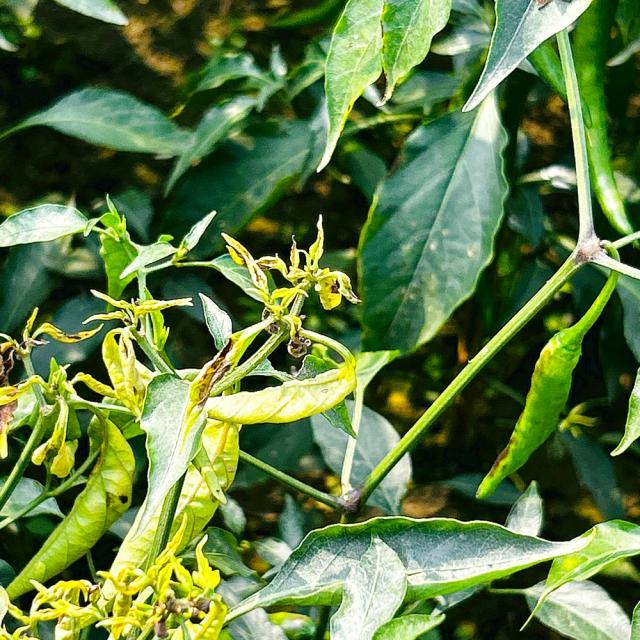Chilli_Leaf_Curl: (1, 1, 638, 638), (1, 194, 363, 634), (221, 512, 638, 638), (355, 88, 512, 356), (474, 266, 621, 500), (460, 0, 593, 113), (1, 84, 195, 158), (313, 0, 384, 173), (0, 202, 103, 248)
